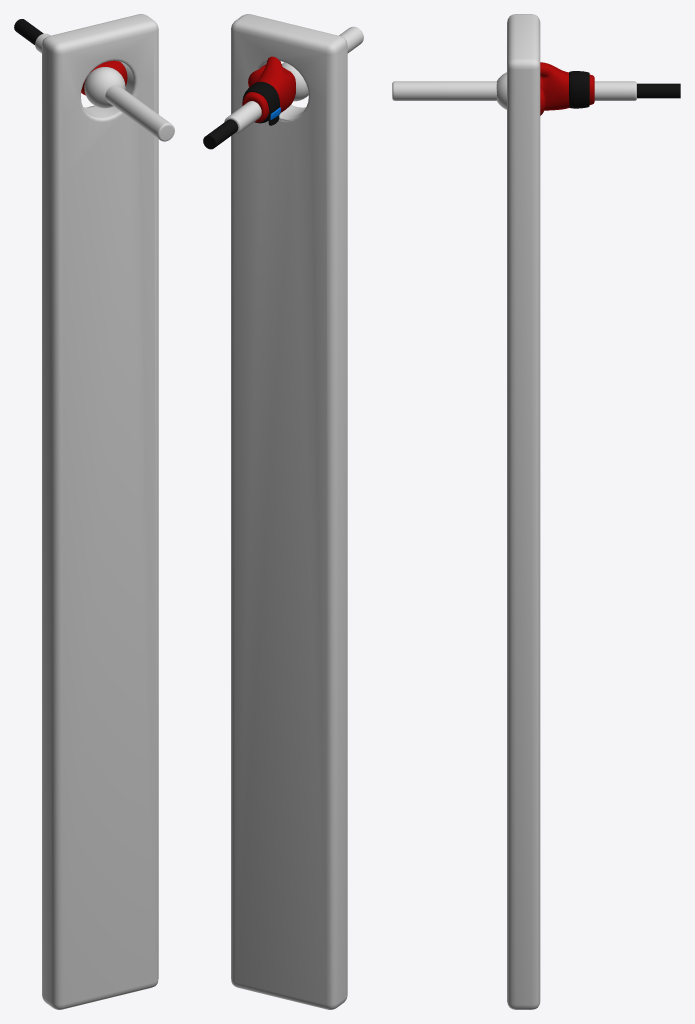
The model's file is Color_Change_Yeni_Engel.fbx.
The picture shows the model from 3 angles, left to right: view 1: azimuth 30°, elevation 25°; view 2: azimuth 150°, elevation 25°; view 3: azimuth 270°, elevation 25°; orthographic projection.
Parts seen in each view (by area): view 1: Box002, Cylinder008, Sphere006, Cylinder001; view 2: Box002, Box001, Cylinder008, Cylinder001, Sphere006; view 3: Box002, Cylinder008, Box001, Cylinder001.
Part boxes in pixels (x1,y1,x2,y2): Box002: (42, 14, 158, 1009); Cylinder008: (35, 33, 174, 141); Sphere006: (84, 67, 125, 108); Cylinder001: (14, 19, 43, 44); Box002: (231, 14, 347, 1009); Box001: (242, 56, 295, 125); Cylinder008: (224, 26, 363, 134); Cylinder001: (203, 119, 238, 149); Sphere006: (281, 62, 308, 101); Box002: (507, 14, 540, 1009); Cylinder008: (392, 81, 636, 100); Box001: (540, 62, 594, 115); Cylinder001: (637, 83, 680, 98).
Bounding box in the file's own units: 295 × 2574 × 707.
